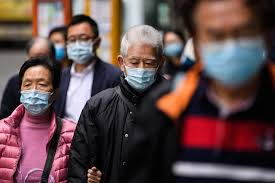mask: (191, 2, 270, 89), (120, 27, 164, 92), (16, 62, 55, 116), (63, 20, 96, 62), (163, 30, 187, 60), (50, 29, 64, 62)
